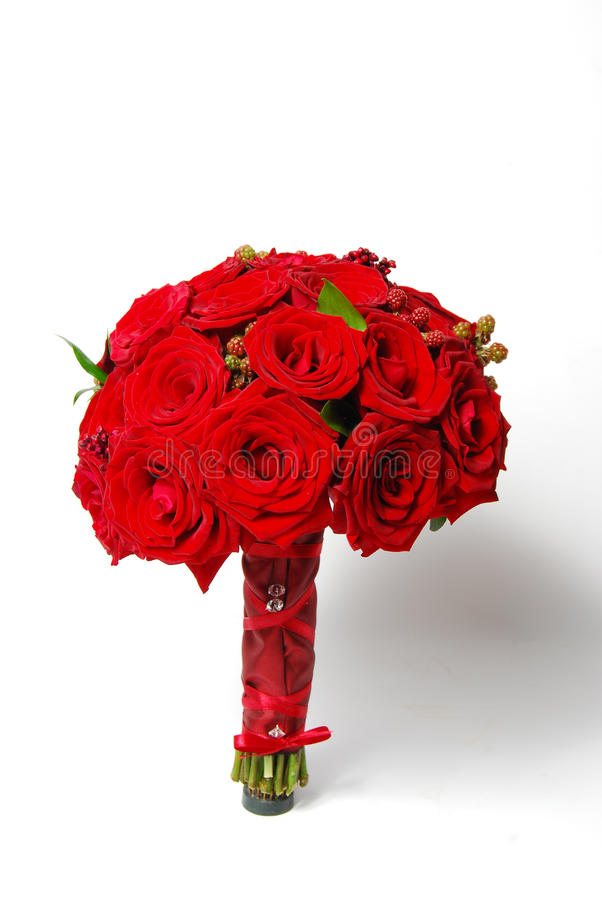RedRose: (196, 386, 341, 536), (95, 429, 226, 592), (316, 418, 452, 559), (424, 374, 521, 509), (248, 308, 373, 409), (125, 321, 221, 449), (351, 309, 454, 413), (101, 270, 195, 368), (180, 256, 288, 336), (298, 256, 407, 308), (63, 371, 135, 443), (63, 434, 121, 516), (397, 284, 481, 336), (427, 339, 494, 384)
